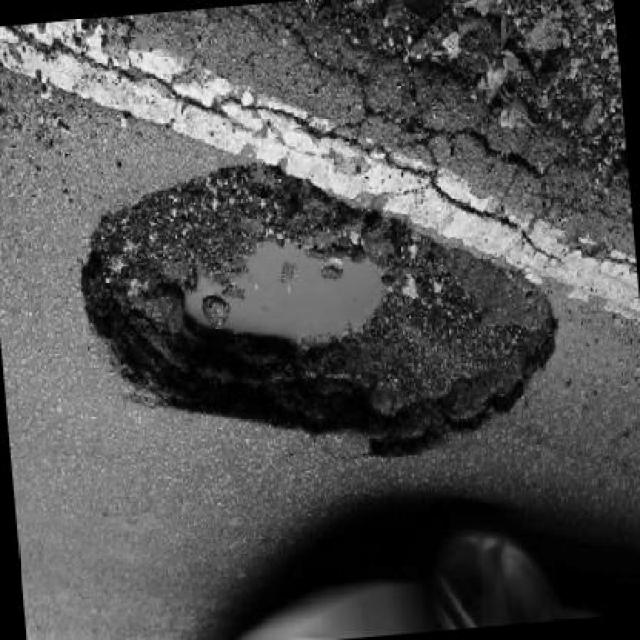pothole: (70, 133, 573, 492)
